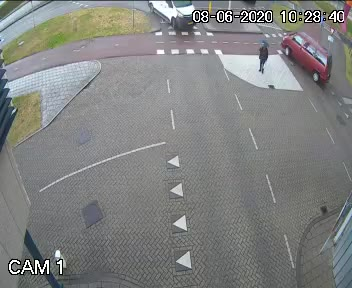car: (275, 23, 336, 97), (145, 0, 198, 43)
